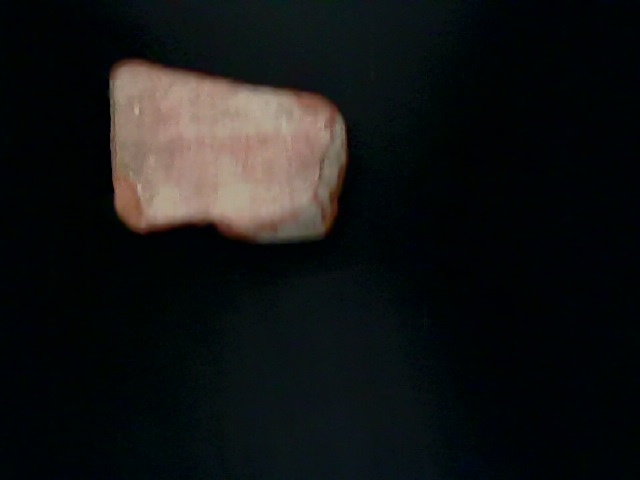KHSLJ: (36, 320, 399, 480)
